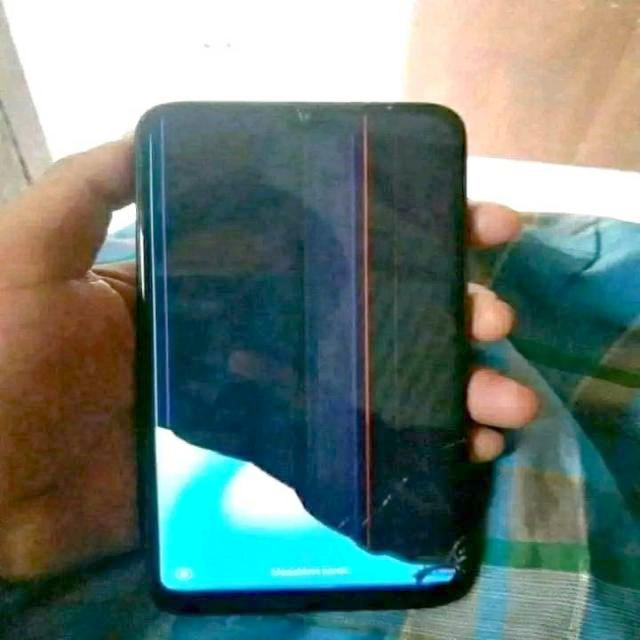phone: (134, 99, 482, 591)
